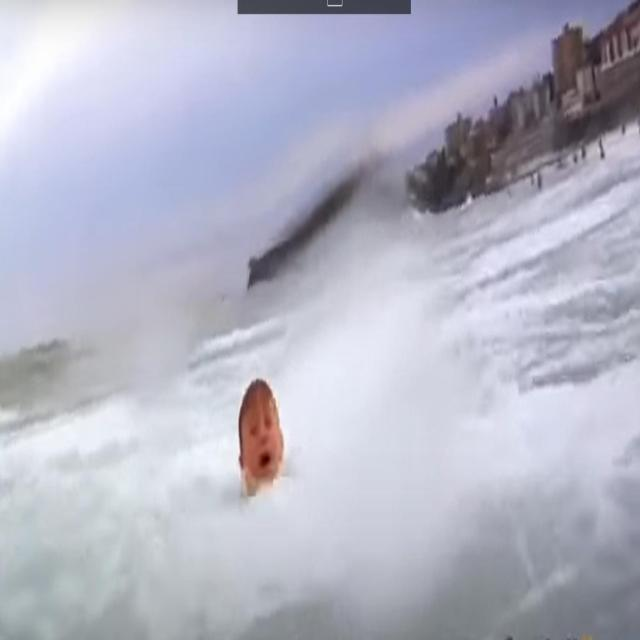Out of Water: (232, 371, 287, 501)
